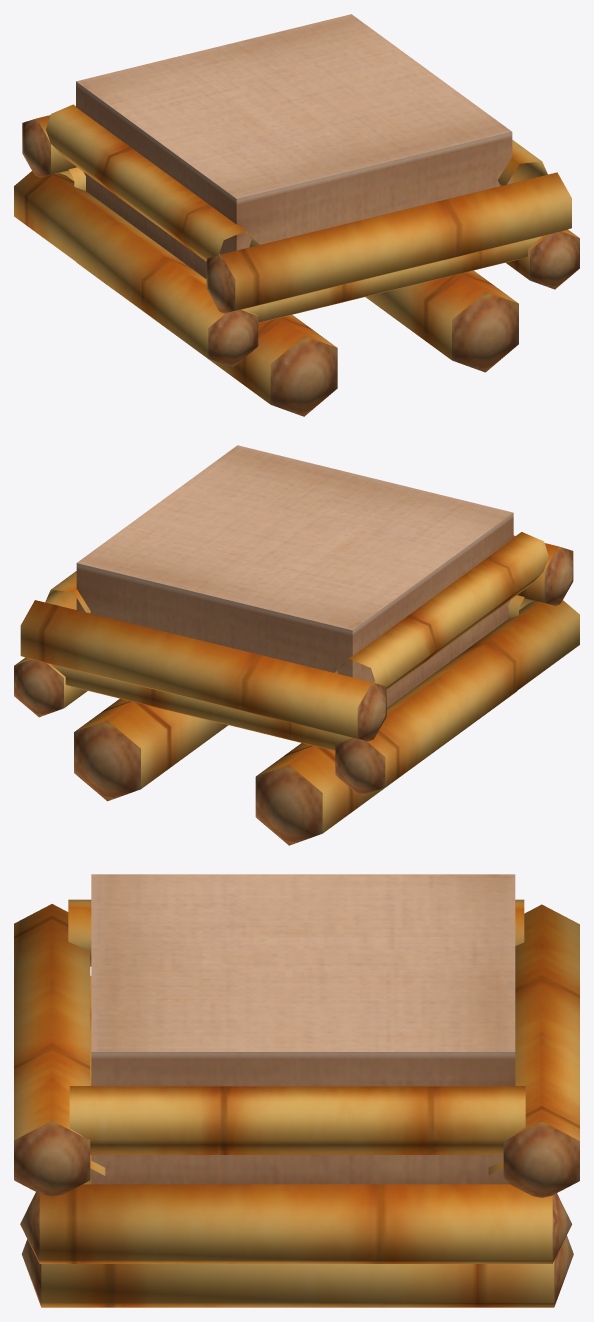
The model's file is Bamboo_Stool_01.FBX.
3 views of the same model, one above another, from view 1: azimuth 30°, elevation 25°; view 2: azimuth 150°, elevation 25°; view 3: azimuth 270°, elevation 25° (orthographic). The views are drawn at different scales.
Visible parts, largest first — view 1: Bamboo_Stool_01; view 2: Bamboo_Stool_01; view 3: Bamboo_Stool_01.
Boxes of the visible parts, x1,y1,x2,y2 form: Bamboo_Stool_01: (14, 14, 579, 416); Bamboo_Stool_01: (14, 445, 579, 845); Bamboo_Stool_01: (14, 874, 579, 1307).
Size of the model in its own units: 0.57 by 0.57 by 0.3169.
